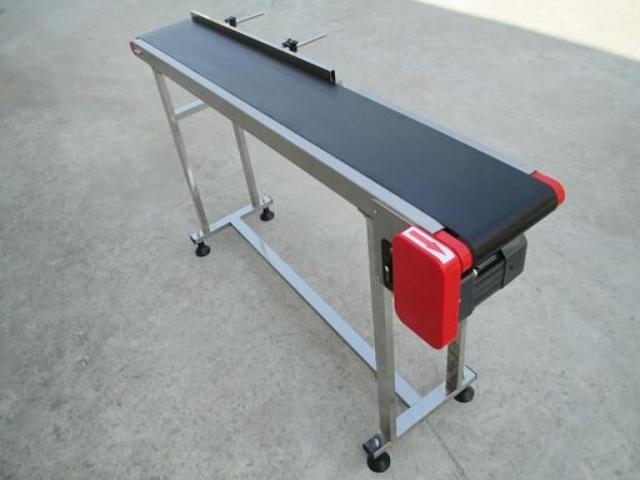conveyor: (127, 8, 568, 474)
